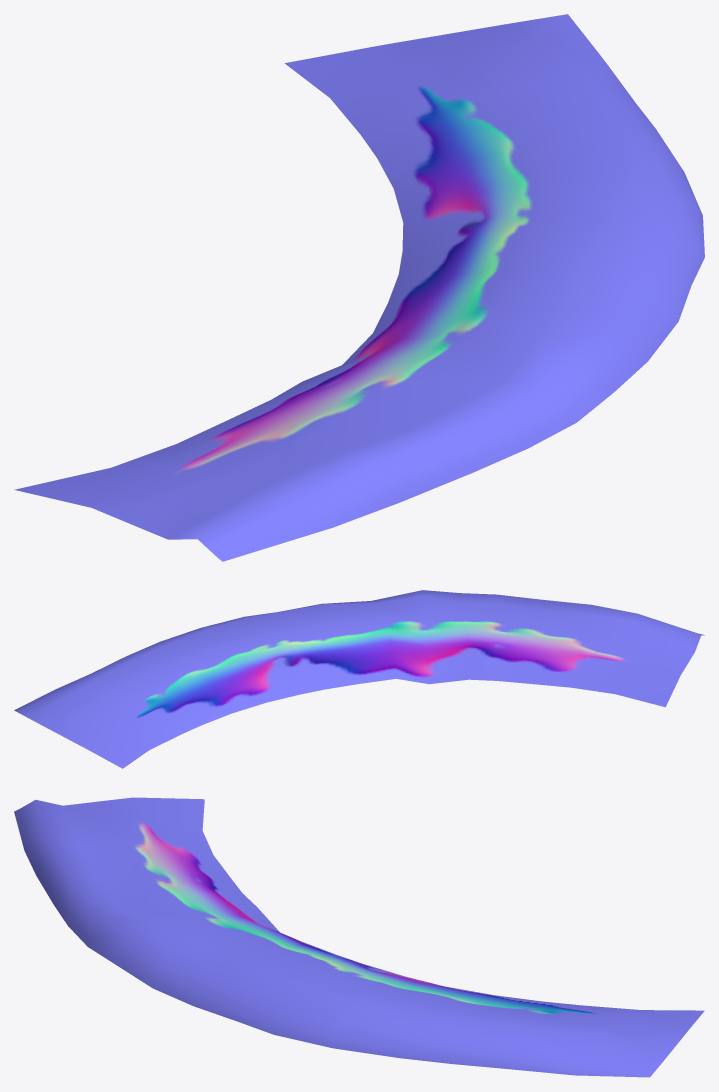
File: p_mesh_trashbot_windpushroar_groundgoo_quater_pose0.fbx
3 views of the same model, one above another, from view 1: azimuth 30°, elevation 25°; view 2: azimuth 150°, elevation 25°; view 3: azimuth 270°, elevation 25° (orthographic). The views are drawn at different scales.
Parts seen in each view (by area): view 1: p_gooroar__pose0; view 2: p_gooroar__pose0; view 3: p_gooroar__pose0.
Boxes of the visible parts, bbox=[...] form: p_gooroar__pose0: bbox=[14, 14, 704, 561]; p_gooroar__pose0: bbox=[14, 590, 704, 768]; p_gooroar__pose0: bbox=[14, 797, 704, 1077].
Size of the model in its own units: 36.03 by 2.7 by 36.08.
